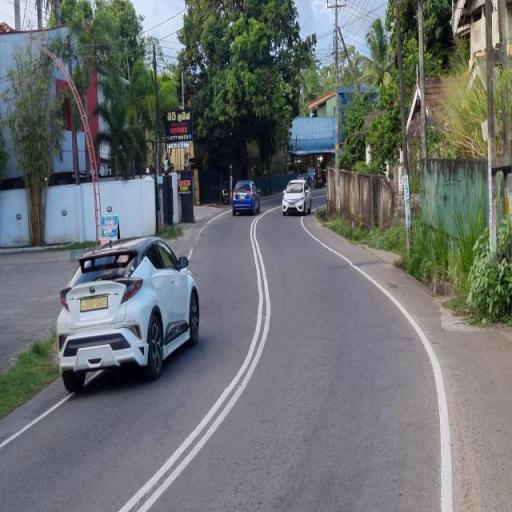double_white_line: (114, 210, 271, 512)
